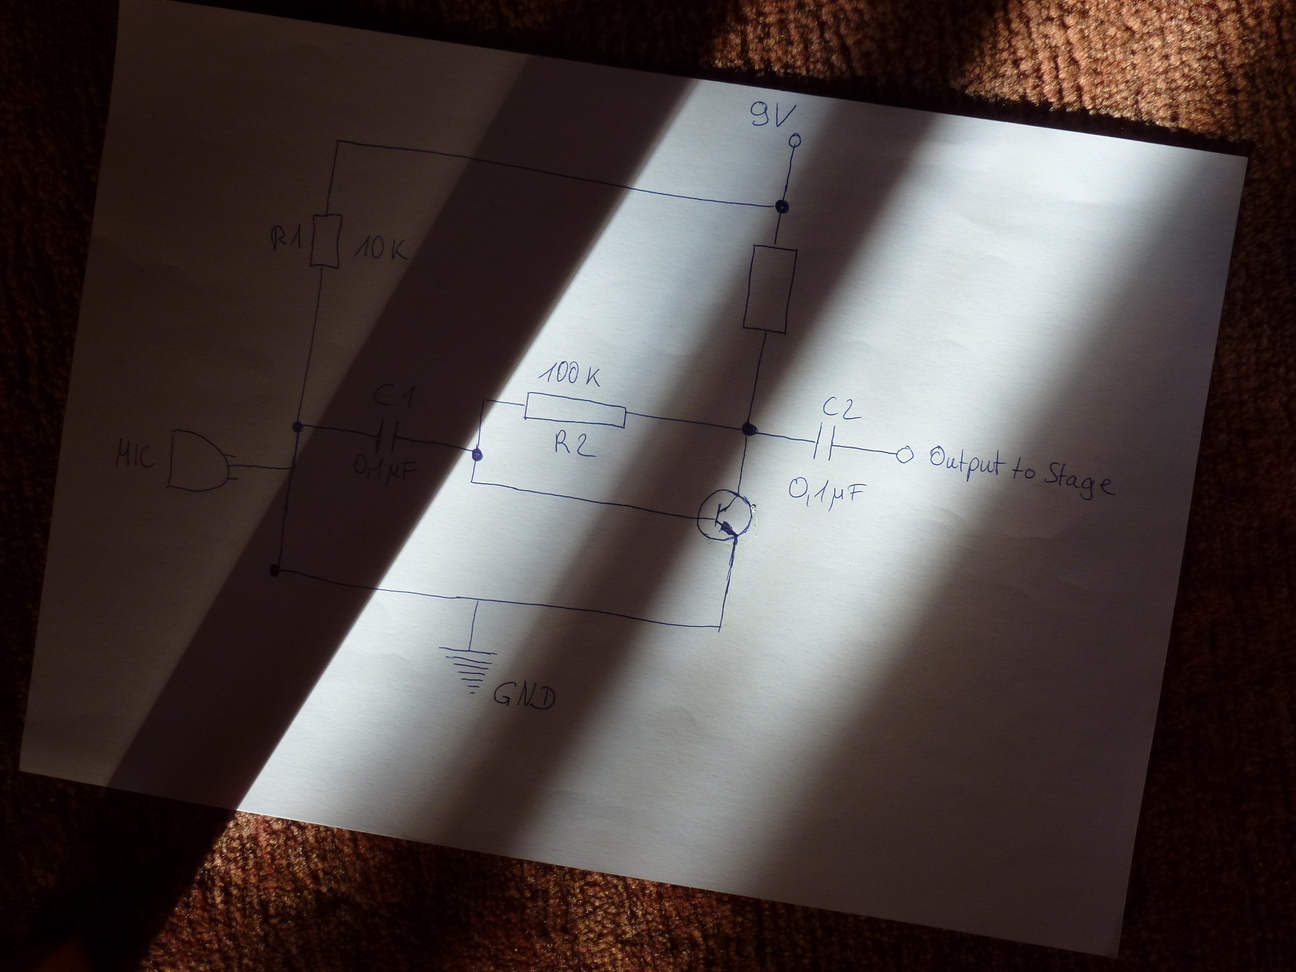capacitor.unpolarized: (806, 420, 841, 465), (369, 417, 400, 456)
gnd: (438, 640, 498, 696)
junction: (770, 195, 794, 218), (740, 419, 758, 439), (266, 561, 284, 579), (482, 392, 498, 409), (468, 592, 485, 607), (290, 419, 305, 434), (711, 618, 726, 634), (470, 446, 482, 461), (283, 461, 296, 474), (332, 135, 344, 146), (467, 476, 477, 488)
microphone: (163, 427, 242, 495)
resistor: (739, 243, 799, 338), (524, 391, 629, 428), (305, 210, 346, 273)
terminal: (891, 442, 917, 468), (785, 131, 802, 150)
text: (924, 442, 1120, 504), (785, 473, 867, 511), (491, 677, 560, 714), (350, 453, 418, 488), (535, 358, 603, 389), (353, 233, 414, 263), (112, 435, 157, 475), (748, 97, 799, 129), (550, 425, 596, 458), (371, 380, 419, 410), (267, 222, 306, 252), (819, 395, 863, 421)
transistor: (691, 485, 759, 543)
